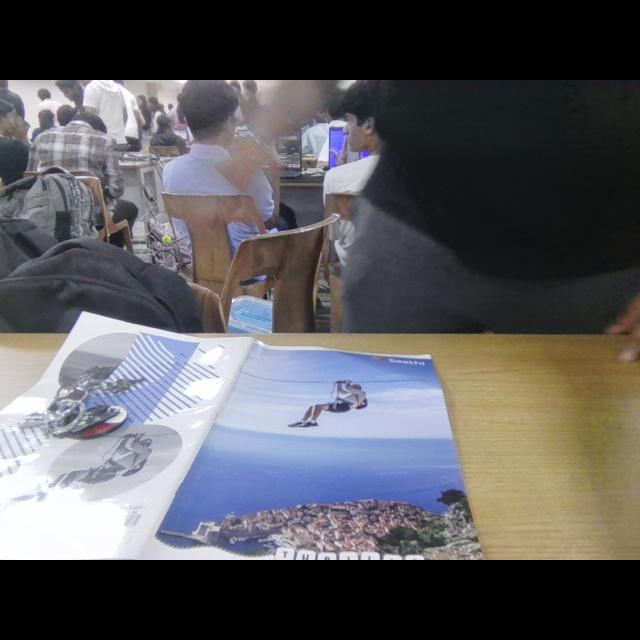keys: (32, 369, 150, 441)
